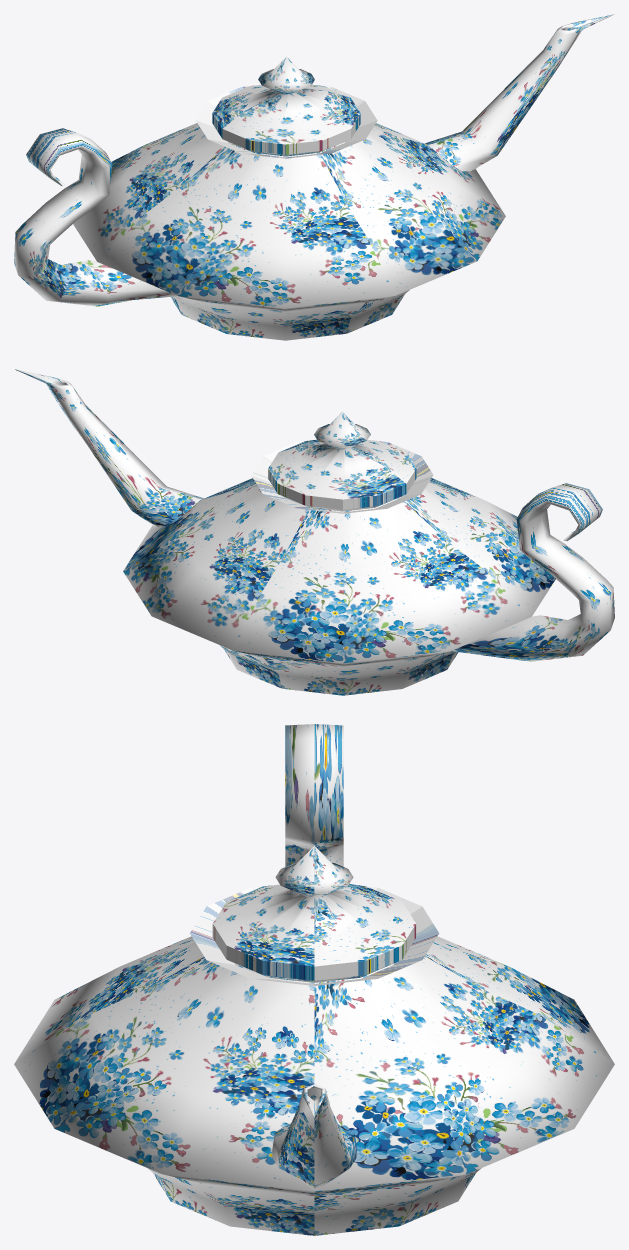
Rendered from texutred teapot 7.FBX.
The picture shows the model from 3 angles, top to bottom: view 1: azimuth 30°, elevation 25°; view 2: azimuth 150°, elevation 25°; view 3: azimuth 270°, elevation 25°; orthographic projection. The views are drawn at different scales.
Parts seen in each view (by area): view 1: Teapot004; view 2: Teapot004; view 3: Teapot004.
Part boxes in pixels (x1,y1,x2,y2): Teapot004: (14,14,613,340); Teapot004: (15,369,614,695); Teapot004: (14,724,614,1235).
Size of the model in its own units: 73.97 by 28.29 by 46.95.
1 material, 1 textured.
